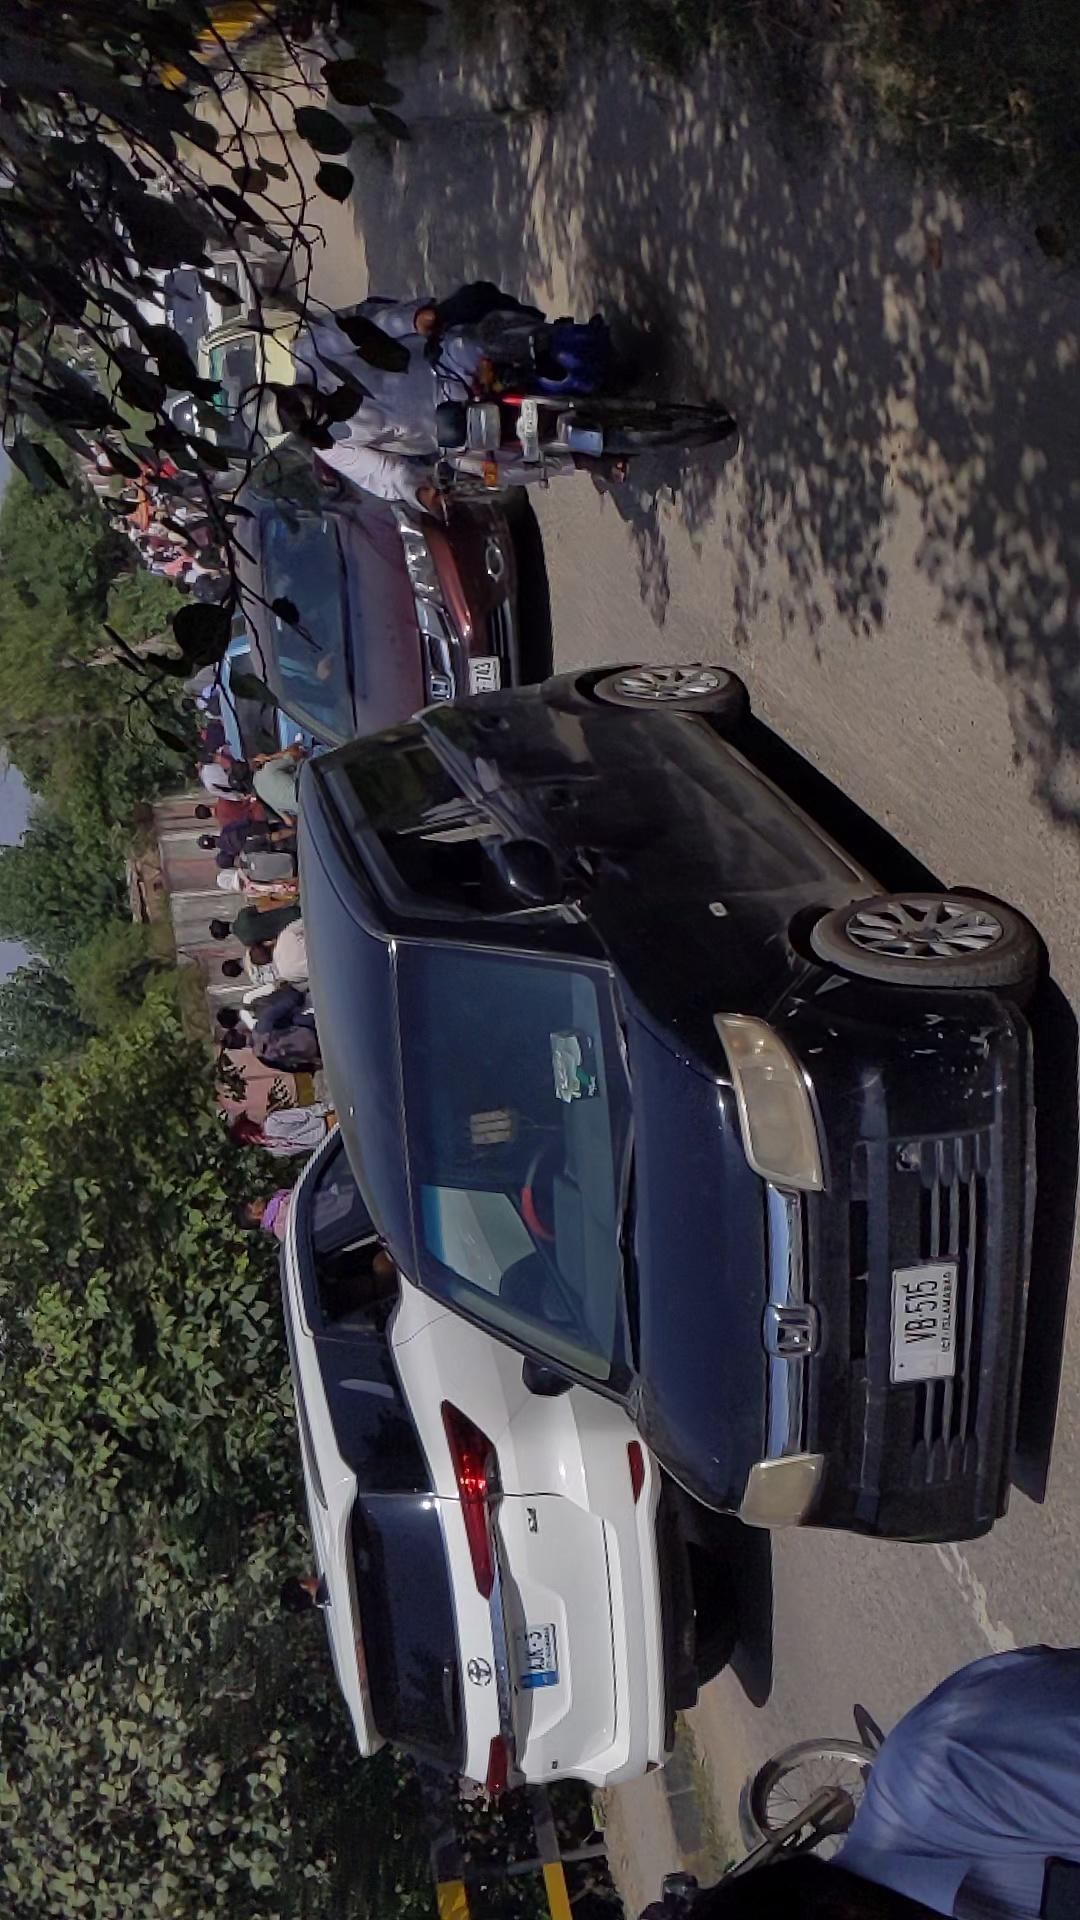windshield: (289, 682, 551, 1114)
